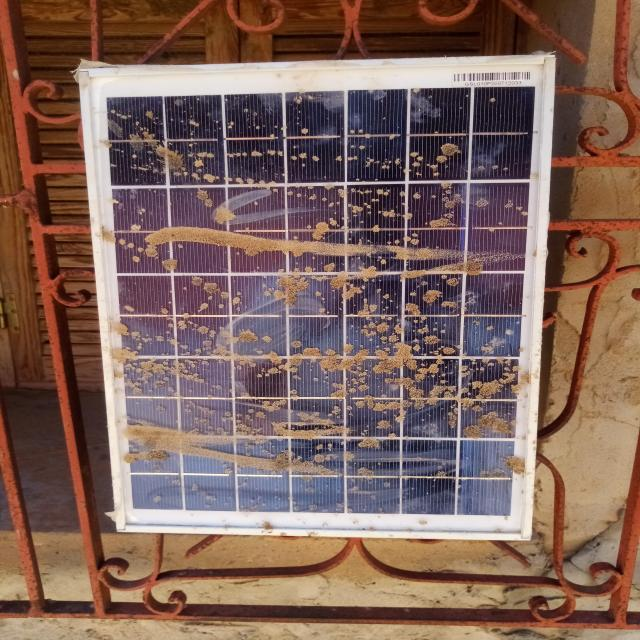faulty: (84, 62, 550, 538)
